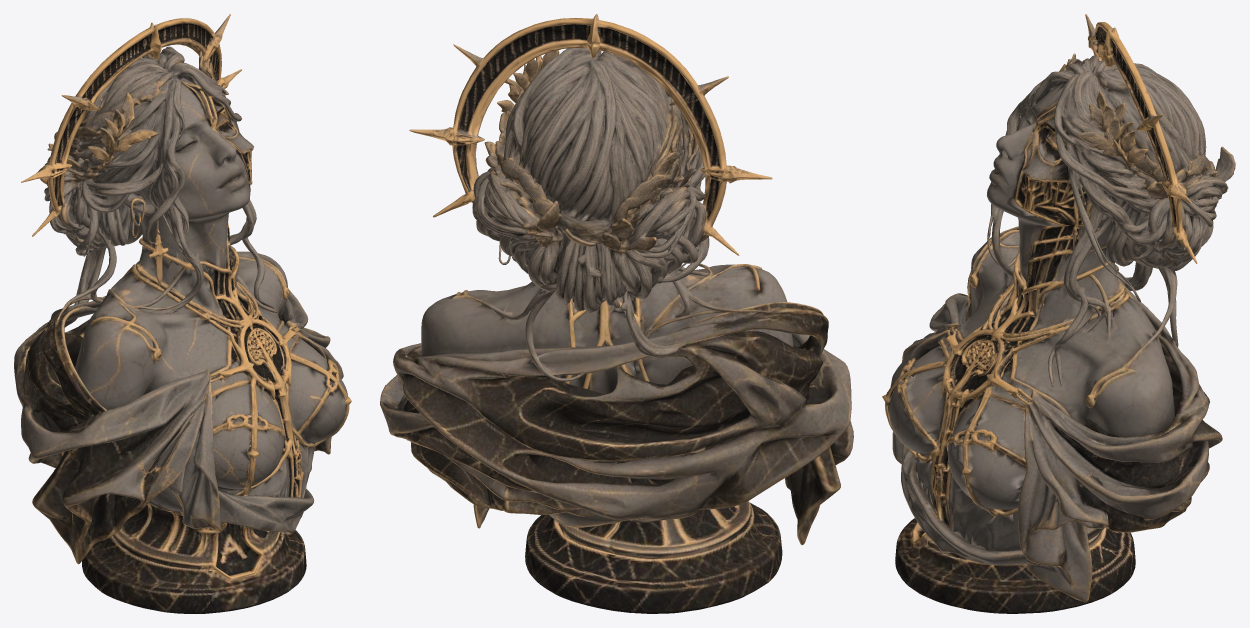
Rendered from oracle.glb.
3 views of the same model, side by side, from view 1: azimuth 30°, elevation 25°; view 2: azimuth 150°, elevation 25°; view 3: azimuth 270°, elevation 25° (orthographic). The views are drawn at different scales.
Bounding box in the file's own units: 1.35 × 1.9 × 1.13.
1 material, 1 textured.
